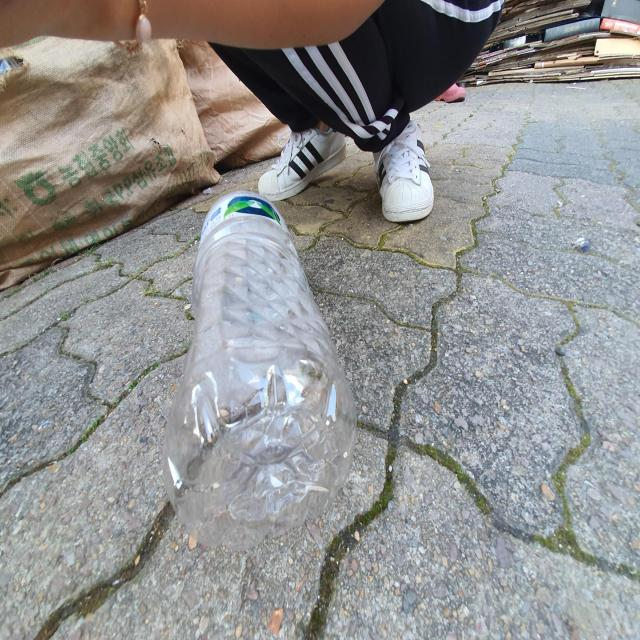plastic: (163, 191, 357, 550)
